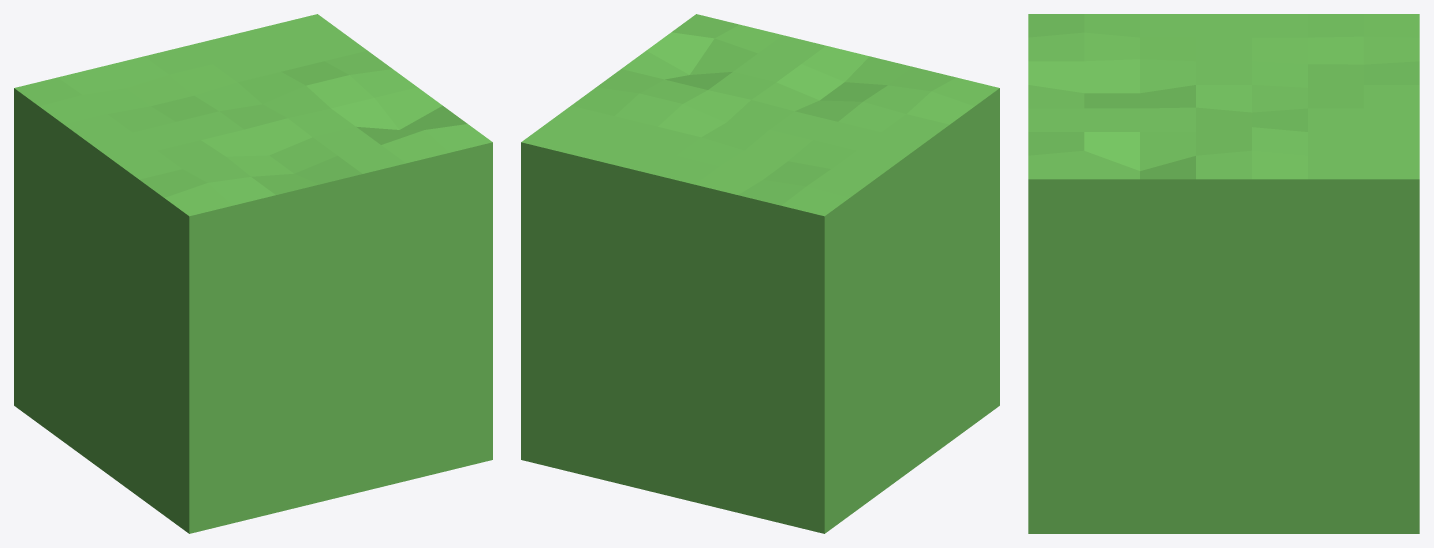
File: floor3.glb
3 renders of one model, left to right at view 1: azimuth 30°, elevation 25°; view 2: azimuth 150°, elevation 25°; view 3: azimuth 270°, elevation 25°, orthographic. The views are drawn at different scales.
Parts seen in each view (by area): view 1: Floor3; view 2: Floor3; view 3: Floor3.
Part boxes in pixels (<box>): Floor3: <box>14,14,492,533</box>; Floor3: <box>521,14,999,533</box>; Floor3: <box>1028,14,1419,533</box>.
Bounding box in the file's own units: 2 × 2.03 × 2.
